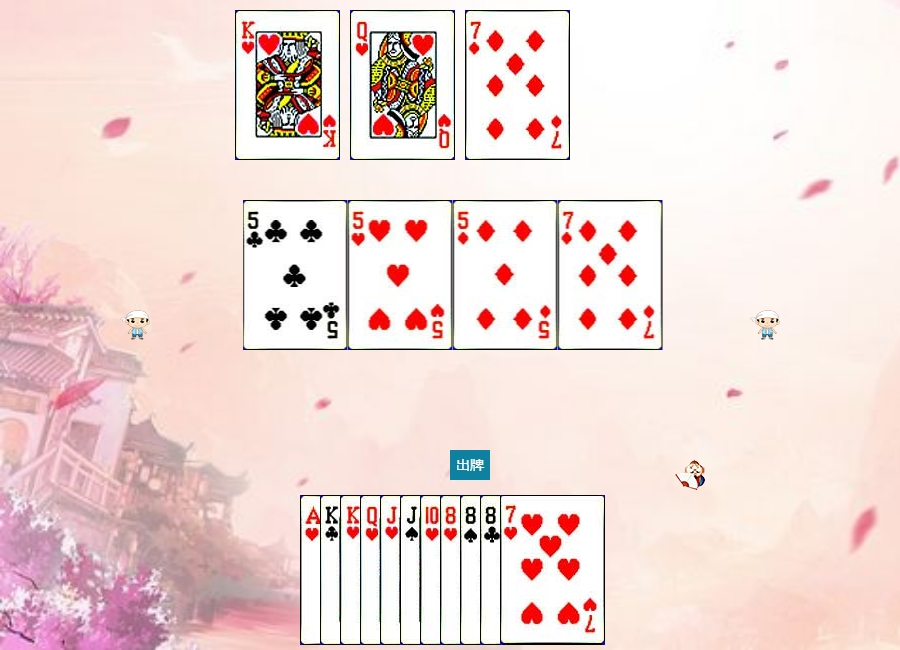10~3: (420, 495, 525, 645)
11~3: (380, 495, 485, 645)
11~4: (400, 495, 505, 645)
12~3: (350, 10, 455, 160), (360, 495, 465, 645)
13~2: (320, 495, 425, 645)
13~3: (235, 10, 340, 160), (340, 495, 445, 645)
14~3: (300, 495, 405, 645)
5~1: (453, 200, 558, 350)
5~2: (243, 200, 348, 350)
5~3: (348, 200, 453, 350)
7~1: (465, 10, 570, 160), (558, 200, 663, 350)
7~3: (500, 495, 605, 645)
8~2: (480, 495, 585, 645)
8~3: (440, 495, 545, 645)
8~4: (460, 495, 565, 645)
